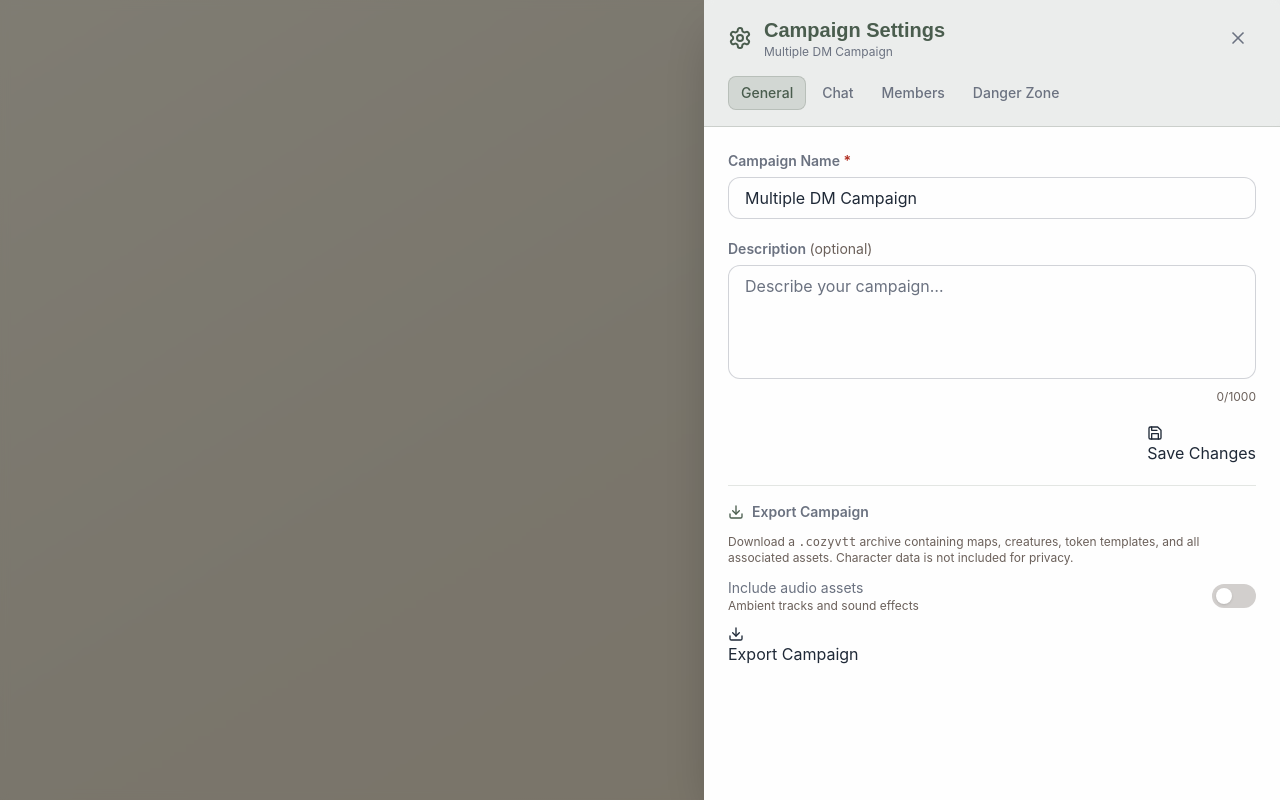
Test: CampaignSettingsModal multiple-DM controls › shows the owner label and independent role controls for multiple DMs
This screenshot has width=1280, height=800.
Click the button "Members" at (913, 93), box [870,76,957,110]
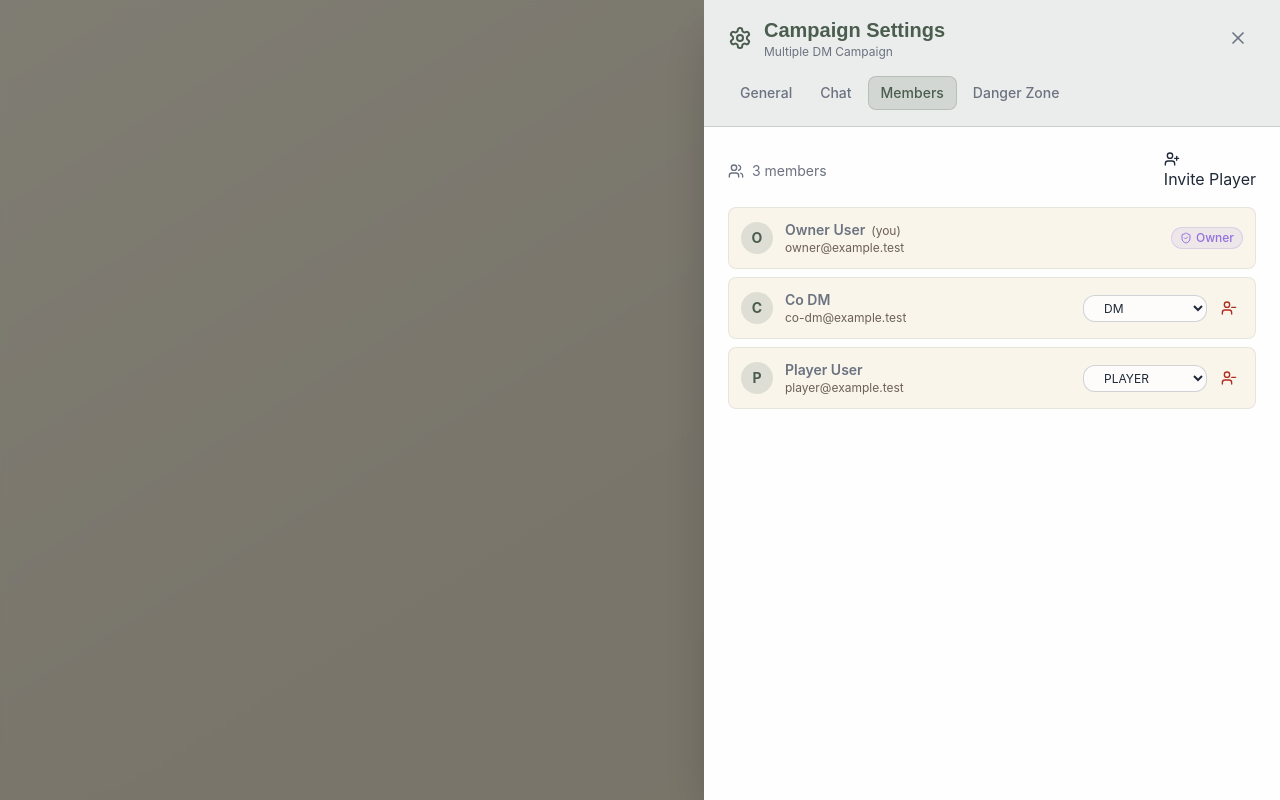
Expected: the text "Owner" is shown, [1180,230,1234,246]
Expected: the text "Owner User" is shown, [785,221,865,238]
Expected: the text "Co DM" is shown, [785,291,830,308]
